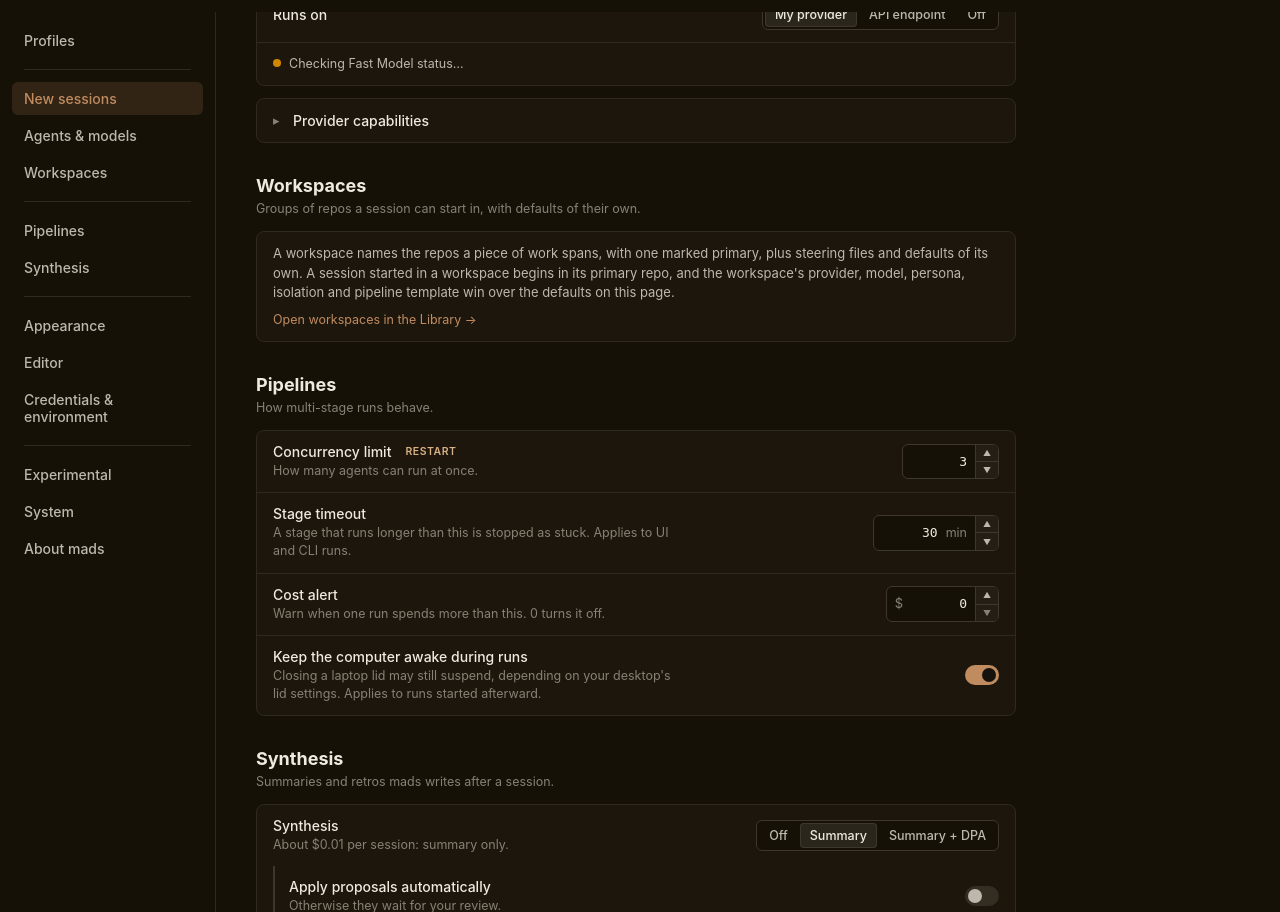
Test case: SettingsSurface › save bar › appears with a count once the draft differs from saved, and Discard puts it back
(page scrolled)
Expected: the element "Unsaved changes" is not shown
Replace the text in the number field labelled "Concurrency limit" with "7". click: {"x": 939, "y": 462}
box: 903,445 -> 975,478
(page scrolled)
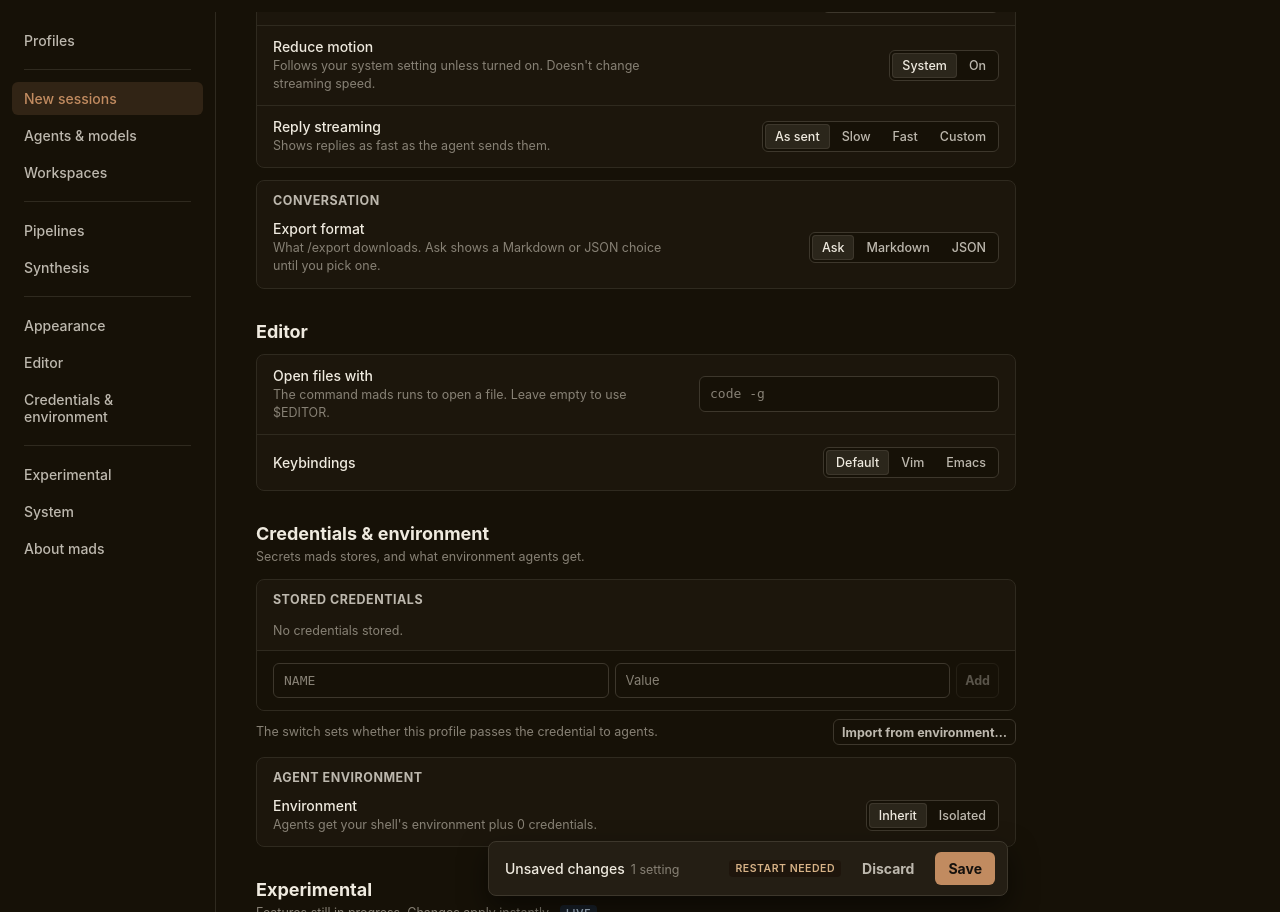
Click the radio button labelled "Vim". click: {"x": 913, "y": 462}
box: 891,450 -> 934,475
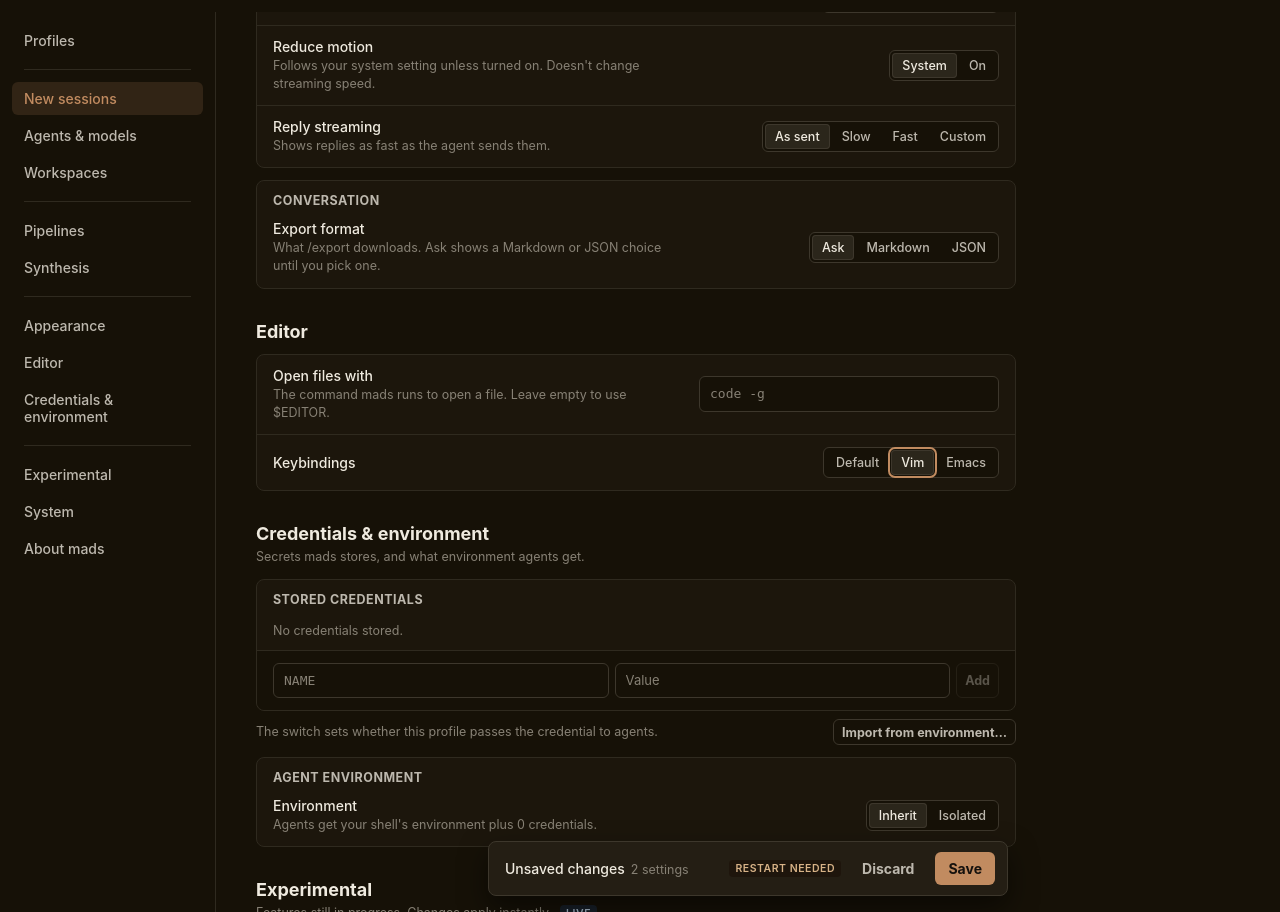
Now the text "Restart needed" is shown, box 729,860 -> 841,877
Now the text "2 settings" is shown, box 631,862 -> 689,877
Click the button "Discard". click: {"x": 888, "y": 868}
box: 853,852 -> 923,885
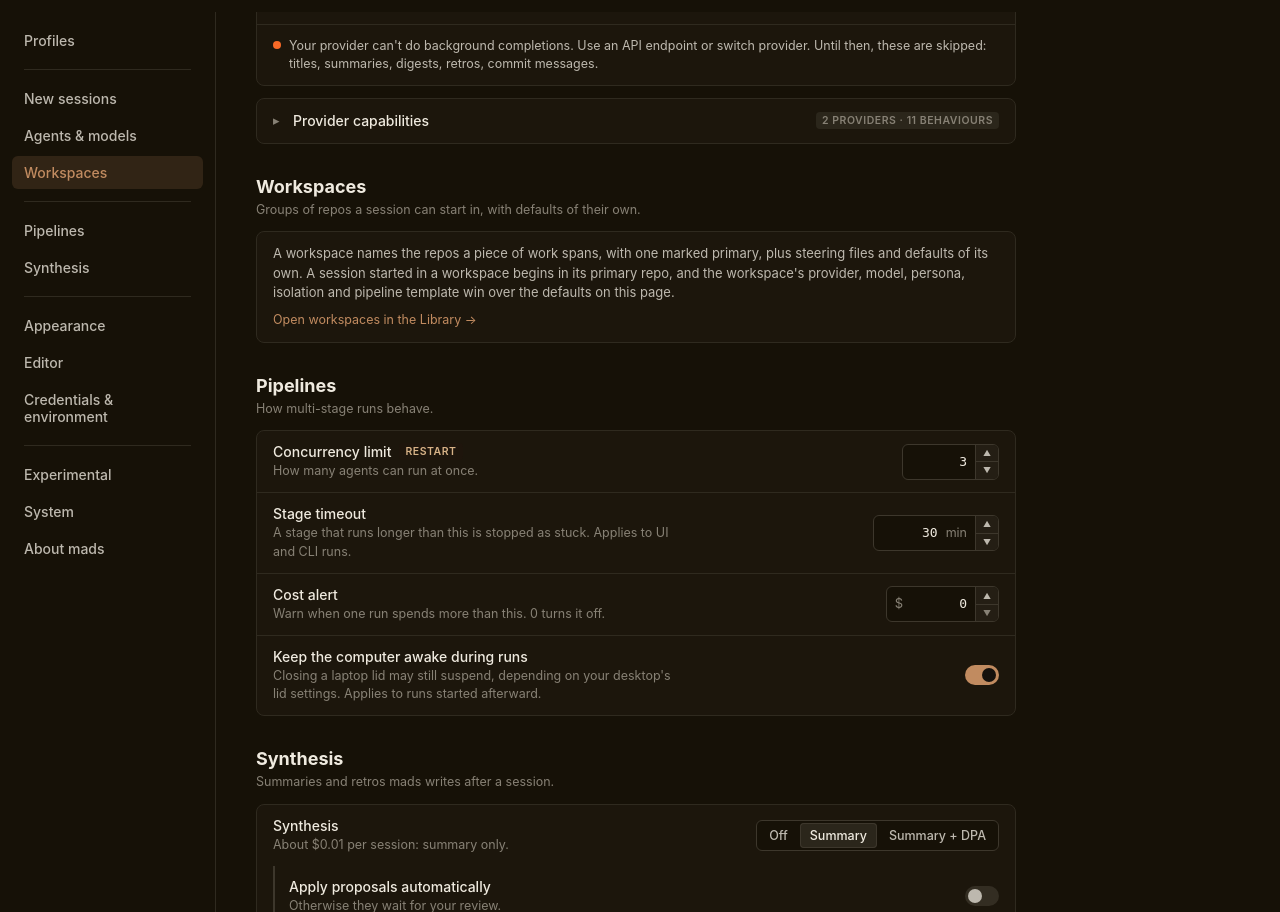
Now the element "Unsaved changes" is gone
Now the number field labelled "Concurrency limit" holds "3", box 903,445 -> 975,479
